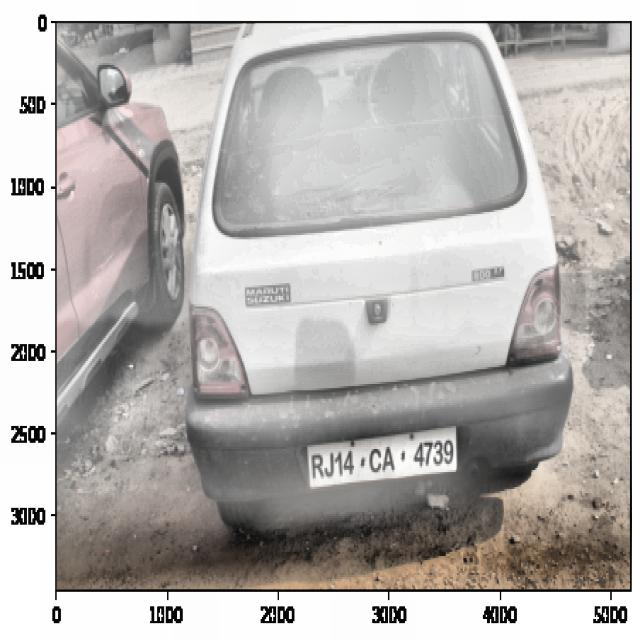license_plate: (307, 434, 458, 484)
